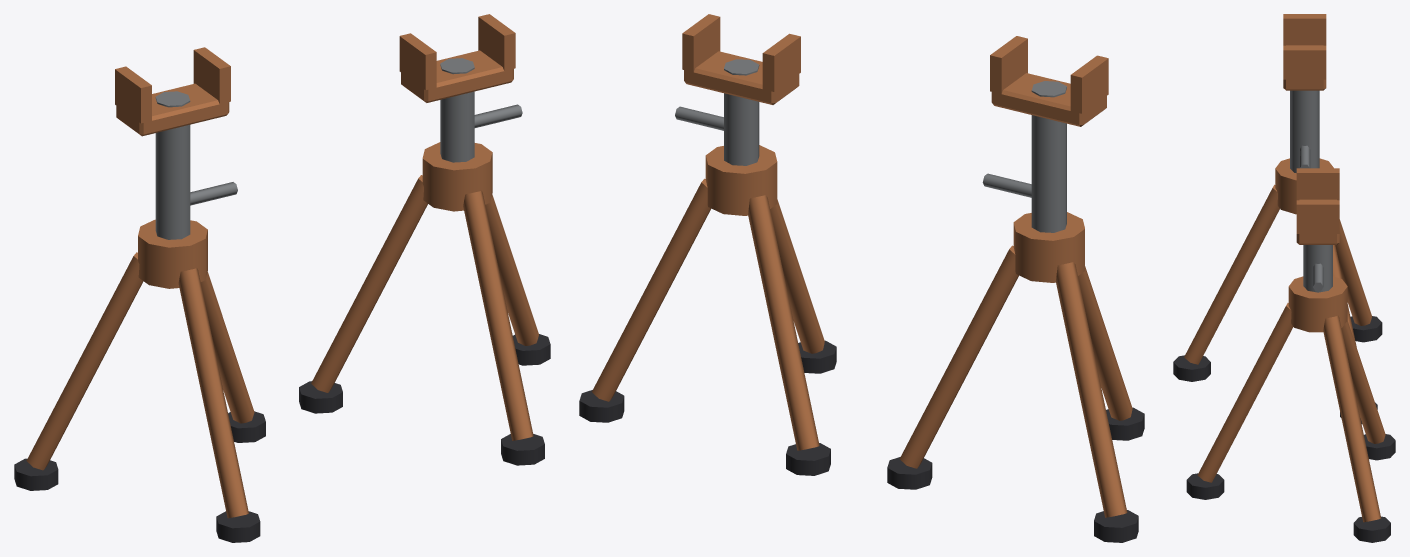
Rendered from astro_rover_jack_stands.fbx.
3 views of the same model, side by side, from view 1: azimuth 30°, elevation 25°; view 2: azimuth 150°, elevation 25°; view 3: azimuth 270°, elevation 25° (orthographic). The views are drawn at different scales.
Visible parts, largest first — view 1: RoverJackStands_Body; view 2: RoverJackStands_Body; view 3: RoverJackStands_Body.
Part boxes in pixels (box(x1,y1,x2,y2)): RoverJackStands_Body: box(14, 14, 550, 542); RoverJackStands_Body: box(579, 14, 1144, 542); RoverJackStands_Body: box(1173, 14, 1395, 542).
Size of the model in its own units: 191 by 141 by 82.84.
